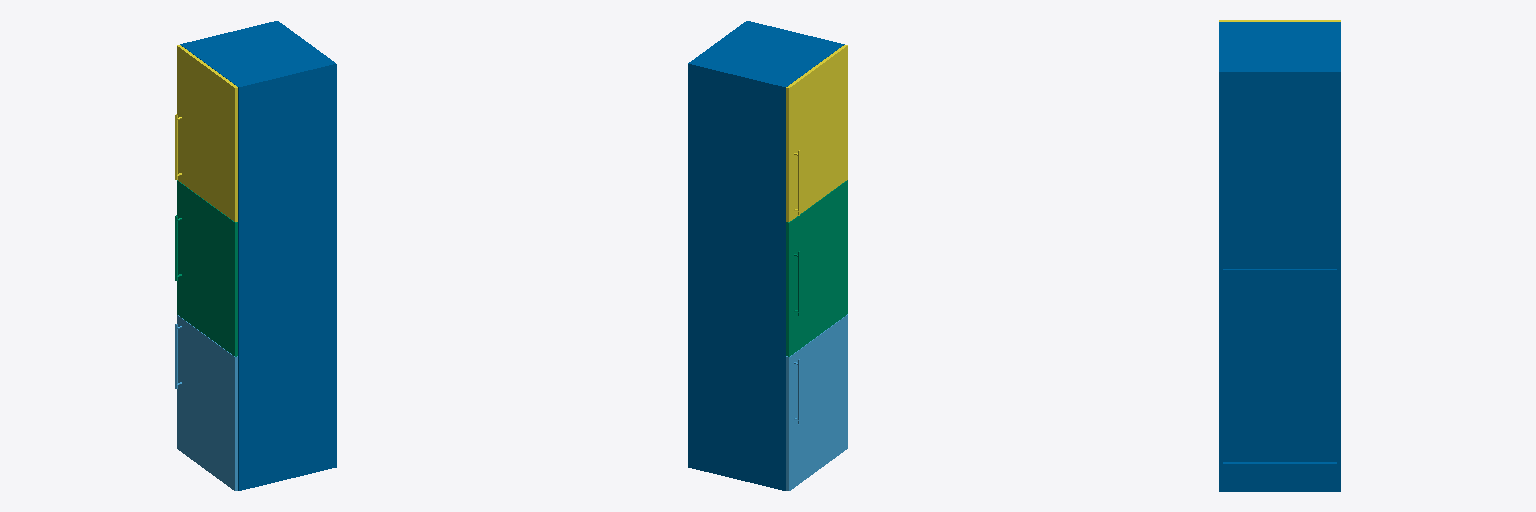
URDF robot description (partnet_a5626b08c059654b4c3aee8e9d3a6ffa):
<?xml version='1.0' encoding='utf-8'?>
<robot name="partnet_a5626b08c059654b4c3aee8e9d3a6ffa">
	<link name="base" />
	<link name="link_0">
		<visual name="cabinet_door_surface-10">
			<origin xyz="-0.24349315815819467 0.9013260006904602 -0.22778871561311018" />
			<geometry>
				<mesh filename="textured_objs/original-29.obj" />
			</geometry>
		</visual>
		<visual name="handle-11">
			<origin xyz="-0.24349315815819467 0.9013260006904602 -0.22778871561311018" />
			<geometry>
				<mesh filename="textured_objs/original-31.obj" />
			</geometry>
		</visual>
		<visual name="handle-11">
			<origin xyz="-0.24349315815819467 0.9013260006904602 -0.22778871561311018" />
			<geometry>
				<mesh filename="textured_objs/original-33.obj" />
			</geometry>
		</visual>
		<visual name="handle-11">
			<origin xyz="-0.24349315815819467 0.9013260006904602 -0.22778871561311018" />
			<geometry>
				<mesh filename="textured_objs/original-32.obj" />
			</geometry>
		</visual>
		<collision>
			<origin xyz="-0.24349315815819467 0.9013260006904602 -0.22778871561311018" />
			<geometry>
				<mesh filename="textured_objs/original-29.obj" />
			</geometry>
		</collision>
		<collision>
			<origin xyz="-0.24349315815819467 0.9013260006904602 -0.22778871561311018" />
			<geometry>
				<mesh filename="textured_objs/original-31.obj" />
			</geometry>
		</collision>
		<collision>
			<origin xyz="-0.24349315815819467 0.9013260006904602 -0.22778871561311018" />
			<geometry>
				<mesh filename="textured_objs/original-33.obj" />
			</geometry>
		</collision>
		<collision>
			<origin xyz="-0.24349315815819467 0.9013260006904602 -0.22778871561311018" />
			<geometry>
				<mesh filename="textured_objs/original-32.obj" />
			</geometry>
		</collision>
	</link>
	<joint name="joint_0" type="revolute">
		<origin xyz="0.24349315815819467 -0.9013260006904602 0.22778871561311018" />
		<axis xyz="0 1 0" />
		<child link="link_0" />
		<parent link="link_3" />
		<limit lower="-0.0" upper="2.0943951023931953" />
	</joint>
	<link name="link_1">
		<visual name="cabinet_door_surface-8">
			<origin xyz="-0.24349315815819467 0.9013260006904602 -0.22778871561311018" />
			<geometry>
				<mesh filename="textured_objs/original-40.obj" />
			</geometry>
		</visual>
		<visual name="handle-9">
			<origin xyz="-0.24349315815819467 0.9013260006904602 -0.22778871561311018" />
			<geometry>
				<mesh filename="textured_objs/original-42.obj" />
			</geometry>
		</visual>
		<visual name="handle-9">
			<origin xyz="-0.24349315815819467 0.9013260006904602 -0.22778871561311018" />
			<geometry>
				<mesh filename="textured_objs/original-44.obj" />
			</geometry>
		</visual>
		<visual name="handle-9">
			<origin xyz="-0.24349315815819467 0.9013260006904602 -0.22778871561311018" />
			<geometry>
				<mesh filename="textured_objs/original-43.obj" />
			</geometry>
		</visual>
		<collision>
			<origin xyz="-0.24349315815819467 0.9013260006904602 -0.22778871561311018" />
			<geometry>
				<mesh filename="textured_objs/original-40.obj" />
			</geometry>
		</collision>
		<collision>
			<origin xyz="-0.24349315815819467 0.9013260006904602 -0.22778871561311018" />
			<geometry>
				<mesh filename="textured_objs/original-42.obj" />
			</geometry>
		</collision>
		<collision>
			<origin xyz="-0.24349315815819467 0.9013260006904602 -0.22778871561311018" />
			<geometry>
				<mesh filename="textured_objs/original-44.obj" />
			</geometry>
		</collision>
		<collision>
			<origin xyz="-0.24349315815819467 0.9013260006904602 -0.22778871561311018" />
			<geometry>
				<mesh filename="textured_objs/original-43.obj" />
			</geometry>
		</collision>
	</link>
	<joint name="joint_1" type="revolute">
		<origin xyz="0.24349315815819467 -0.9013260006904602 0.22778871561311018" />
		<axis xyz="0 1 0" />
		<child link="link_1" />
		<parent link="link_3" />
		<limit lower="-0.0" upper="2.0943951023931953" />
	</joint>
	<link name="link_2">
		<visual name="cabinet_door_surface-6">
			<origin xyz="-0.24349315815819467 0.9013260006904602 -0.22778871561311018" />
			<geometry>
				<mesh filename="textured_objs/original-21.obj" />
			</geometry>
		</visual>
		<visual name="handle-7">
			<origin xyz="-0.24349315815819467 0.9013260006904602 -0.22778871561311018" />
			<geometry>
				<mesh filename="textured_objs/original-23.obj" />
			</geometry>
		</visual>
		<visual name="handle-7">
			<origin xyz="-0.24349315815819467 0.9013260006904602 -0.22778871561311018" />
			<geometry>
				<mesh filename="textured_objs/original-24.obj" />
			</geometry>
		</visual>
		<visual name="handle-7">
			<origin xyz="-0.24349315815819467 0.9013260006904602 -0.22778871561311018" />
			<geometry>
				<mesh filename="textured_objs/original-25.obj" />
			</geometry>
		</visual>
		<collision>
			<origin xyz="-0.24349315815819467 0.9013260006904602 -0.22778871561311018" />
			<geometry>
				<mesh filename="textured_objs/original-21.obj" />
			</geometry>
		</collision>
		<collision>
			<origin xyz="-0.24349315815819467 0.9013260006904602 -0.22778871561311018" />
			<geometry>
				<mesh filename="textured_objs/original-23.obj" />
			</geometry>
		</collision>
		<collision>
			<origin xyz="-0.24349315815819467 0.9013260006904602 -0.22778871561311018" />
			<geometry>
				<mesh filename="textured_objs/original-24.obj" />
			</geometry>
		</collision>
		<collision>
			<origin xyz="-0.24349315815819467 0.9013260006904602 -0.22778871561311018" />
			<geometry>
				<mesh filename="textured_objs/original-25.obj" />
			</geometry>
		</collision>
	</link>
	<joint name="joint_2" type="revolute">
		<origin xyz="0.24349315815819467 -0.9013260006904602 0.22778871561311018" />
		<axis xyz="0 1 0" />
		<child link="link_2" />
		<parent link="link_3" />
		<limit lower="-0.0" upper="2.0943951023931953" />
	</joint>
	<link name="link_3">
		<visual name="shelf-13">
			<origin xyz="0 0 0" />
			<geometry>
				<mesh filename="textured_objs/original-27.obj" />
			</geometry>
		</visual>
		<visual name="shelf-14">
			<origin xyz="0 0 0" />
			<geometry>
				<mesh filename="textured_objs/original-36.obj" />
			</geometry>
		</visual>
		<visual name="shelf-14">
			<origin xyz="0 0 0" />
			<geometry>
				<mesh filename="textured_objs/original-35.obj" />
			</geometry>
		</visual>
		<visual name="shelf-15">
			<origin xyz="0 0 0" />
			<geometry>
				<mesh filename="textured_objs/original-38.obj" />
			</geometry>
		</visual>
		<visual name="shelf-16">
			<origin xyz="0 0 0" />
			<geometry>
				<mesh filename="textured_objs/original-47.obj" />
			</geometry>
		</visual>
		<visual name="shelf-16">
			<origin xyz="0 0 0" />
			<geometry>
				<mesh filename="textured_objs/original-46.obj" />
			</geometry>
		</visual>
		<visual name="shelf-17">
			<origin xyz="0 0 0" />
			<geometry>
				<mesh filename="textured_objs/original-19.obj" />
			</geometry>
		</visual>
		<visual name="vertical_side_panel-18">
			<origin xyz="0 0 0" />
			<geometry>
				<mesh filename="textured_objs/original-4.obj" />
			</geometry>
		</visual>
		<visual name="vertical_side_panel-18">
			<origin xyz="0 0 0" />
			<geometry>
				<mesh filename="textured_objs/original-3.obj" />
			</geometry>
		</visual>
		<visual name="vertical_side_panel-19">
			<origin xyz="0 0 0" />
			<geometry>
				<mesh filename="textured_objs/original-7.obj" />
			</geometry>
		</visual>
		<visual name="vertical_side_panel-19">
			<origin xyz="0 0 0" />
			<geometry>
				<mesh filename="textured_objs/original-6.obj" />
			</geometry>
		</visual>
		<visual name="back_panel-20">
			<origin xyz="0 0 0" />
			<geometry>
				<mesh filename="textured_objs/original-15.obj" />
			</geometry>
		</visual>
		<visual name="bottom_panel-21">
			<origin xyz="0 0 0" />
			<geometry>
				<mesh filename="textured_objs/original-13.obj" />
			</geometry>
		</visual>
		<visual name="bottom_panel-21">
			<origin xyz="0 0 0" />
			<geometry>
				<mesh filename="textured_objs/original-12.obj" />
			</geometry>
		</visual>
		<visual name="top_panel-22">
			<origin xyz="0 0 0" />
			<geometry>
				<mesh filename="textured_objs/original-10.obj" />
			</geometry>
		</visual>
		<visual name="top_panel-22">
			<origin xyz="0 0 0" />
			<geometry>
				<mesh filename="textured_objs/original-9.obj" />
			</geometry>
		</visual>
		<visual name="frame_horizontal_bar-23">
			<origin xyz="0 0 0" />
			<geometry>
				<mesh filename="textured_objs/original-14.obj" />
			</geometry>
		</visual>
		<visual name="frame_horizontal_bar-24">
			<origin xyz="0 0 0" />
			<geometry>
				<mesh filename="textured_objs/original-16.obj" />
			</geometry>
		</visual>
		<visual name="frame_horizontal_bar-25">
			<origin xyz="0 0 0" />
			<geometry>
				<mesh filename="textured_objs/original-17.obj" />
			</geometry>
		</visual>
		<collision>
			<origin xyz="0 0 0" />
			<geometry>
				<mesh filename="textured_objs/original-27.obj" />
			</geometry>
		</collision>
		<collision>
			<origin xyz="0 0 0" />
			<geometry>
				<mesh filename="textured_objs/original-36.obj" />
			</geometry>
		</collision>
		<collision>
			<origin xyz="0 0 0" />
			<geometry>
				<mesh filename="textured_objs/original-35.obj" />
			</geometry>
		</collision>
		<collision>
			<origin xyz="0 0 0" />
			<geometry>
				<mesh filename="textured_objs/original-38.obj" />
			</geometry>
		</collision>
		<collision>
			<origin xyz="0 0 0" />
			<geometry>
				<mesh filename="textured_objs/original-47.obj" />
			</geometry>
		</collision>
		<collision>
			<origin xyz="0 0 0" />
			<geometry>
				<mesh filename="textured_objs/original-46.obj" />
			</geometry>
		</collision>
		<collision>
			<origin xyz="0 0 0" />
			<geometry>
				<mesh filename="textured_objs/original-19.obj" />
			</geometry>
		</collision>
		<collision>
			<origin xyz="0 0 0" />
			<geometry>
				<mesh filename="textured_objs/original-4.obj" />
			</geometry>
		</collision>
		<collision>
			<origin xyz="0 0 0" />
			<geometry>
				<mesh filename="textured_objs/original-3.obj" />
			</geometry>
		</collision>
		<collision>
			<origin xyz="0 0 0" />
			<geometry>
				<mesh filename="textured_objs/original-7.obj" />
			</geometry>
		</collision>
		<collision>
			<origin xyz="0 0 0" />
			<geometry>
				<mesh filename="textured_objs/original-6.obj" />
			</geometry>
		</collision>
		<collision>
			<origin xyz="0 0 0" />
			<geometry>
				<mesh filename="textured_objs/original-15.obj" />
			</geometry>
		</collision>
		<collision>
			<origin xyz="0 0 0" />
			<geometry>
				<mesh filename="textured_objs/original-13.obj" />
			</geometry>
		</collision>
		<collision>
			<origin xyz="0 0 0" />
			<geometry>
				<mesh filename="textured_objs/original-12.obj" />
			</geometry>
		</collision>
		<collision>
			<origin xyz="0 0 0" />
			<geometry>
				<mesh filename="textured_objs/original-10.obj" />
			</geometry>
		</collision>
		<collision>
			<origin xyz="0 0 0" />
			<geometry>
				<mesh filename="textured_objs/original-9.obj" />
			</geometry>
		</collision>
		<collision>
			<origin xyz="0 0 0" />
			<geometry>
				<mesh filename="textured_objs/original-14.obj" />
			</geometry>
		</collision>
		<collision>
			<origin xyz="0 0 0" />
			<geometry>
				<mesh filename="textured_objs/original-16.obj" />
			</geometry>
		</collision>
		<collision>
			<origin xyz="0 0 0" />
			<geometry>
				<mesh filename="textured_objs/original-17.obj" />
			</geometry>
		</collision>
	</link>
	<joint name="joint_3" type="fixed">
		<origin rpy="1.570796326794897 0 -1.570796326794897" xyz="0 0 0" />
		<child link="link_3" />
		<parent link="base" />
	</joint>
</robot>

--- What the picture shows (computed from the rendered views, not written in the file) ---
3 views of the same robot in one strip: view 1: azimuth 30°, elevation 25°; view 2: azimuth 150°, elevation 25°; view 3: azimuth 270°, elevation 25° (orthographic).
Robot: partnet_a5626b08c059654b4c3aee8e9d3a6ffa — 5 links, 4 joints (3 revolute, 1 fixed); root link base; default pose: every joint at zero.
Visible links, largest first — view 1: link_3, link_2, link_1, link_0; view 2: link_3, link_2, link_0, link_1; view 3: link_3.
Link boxes in pixels (x1,y1,x2,y2): link_3: (180,21,336,490); link_2: (175,45,237,221); link_1: (175,180,237,356); link_0: (175,315,237,490); link_3: (688,21,844,490); link_2: (786,45,847,221); link_0: (786,314,847,490); link_1: (786,180,847,356); link_3: (1219,22,1340,491).
Size in the robot's own frame: 0.5156 by 0.4901 by 1.85 metres.
31 mesh visuals loaded from 31 distinct referenced files (31 OBJ).